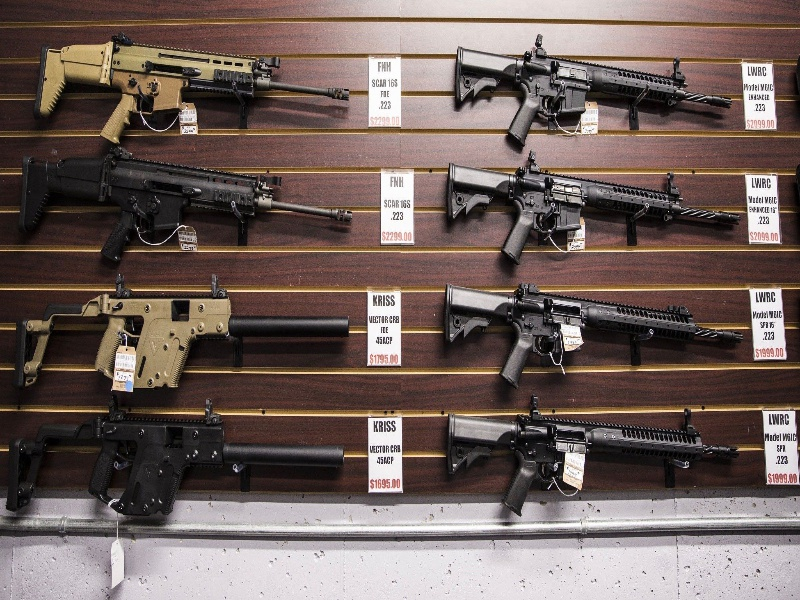gun: (32, 33, 357, 154), (14, 160, 371, 270), (444, 30, 740, 157), (13, 290, 355, 399), (5, 415, 359, 520), (436, 282, 752, 399), (438, 160, 746, 279), (435, 403, 746, 519)
